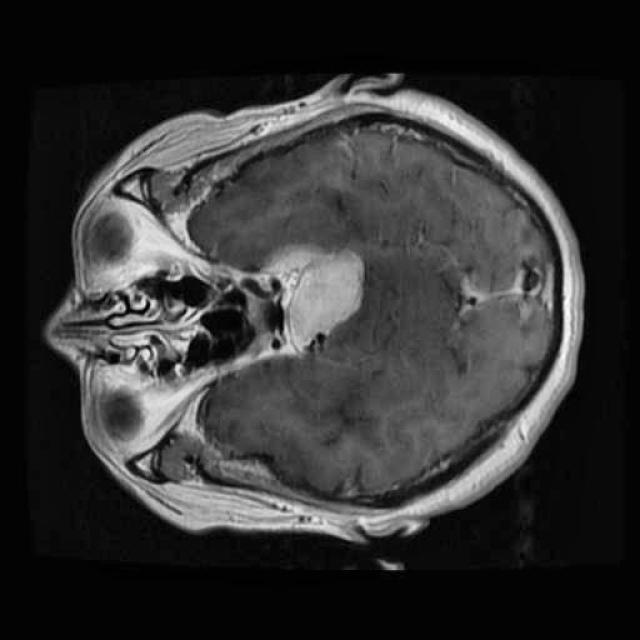Tumor: (246, 230, 375, 366)
